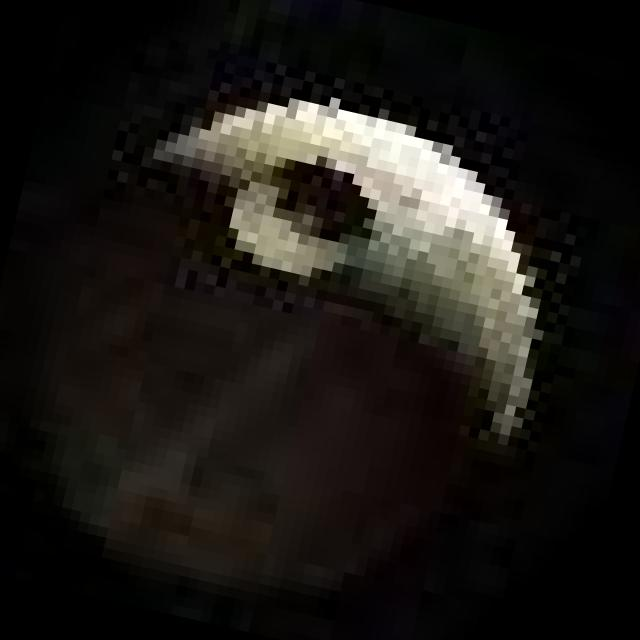Death Star: (0, 31, 591, 640)
